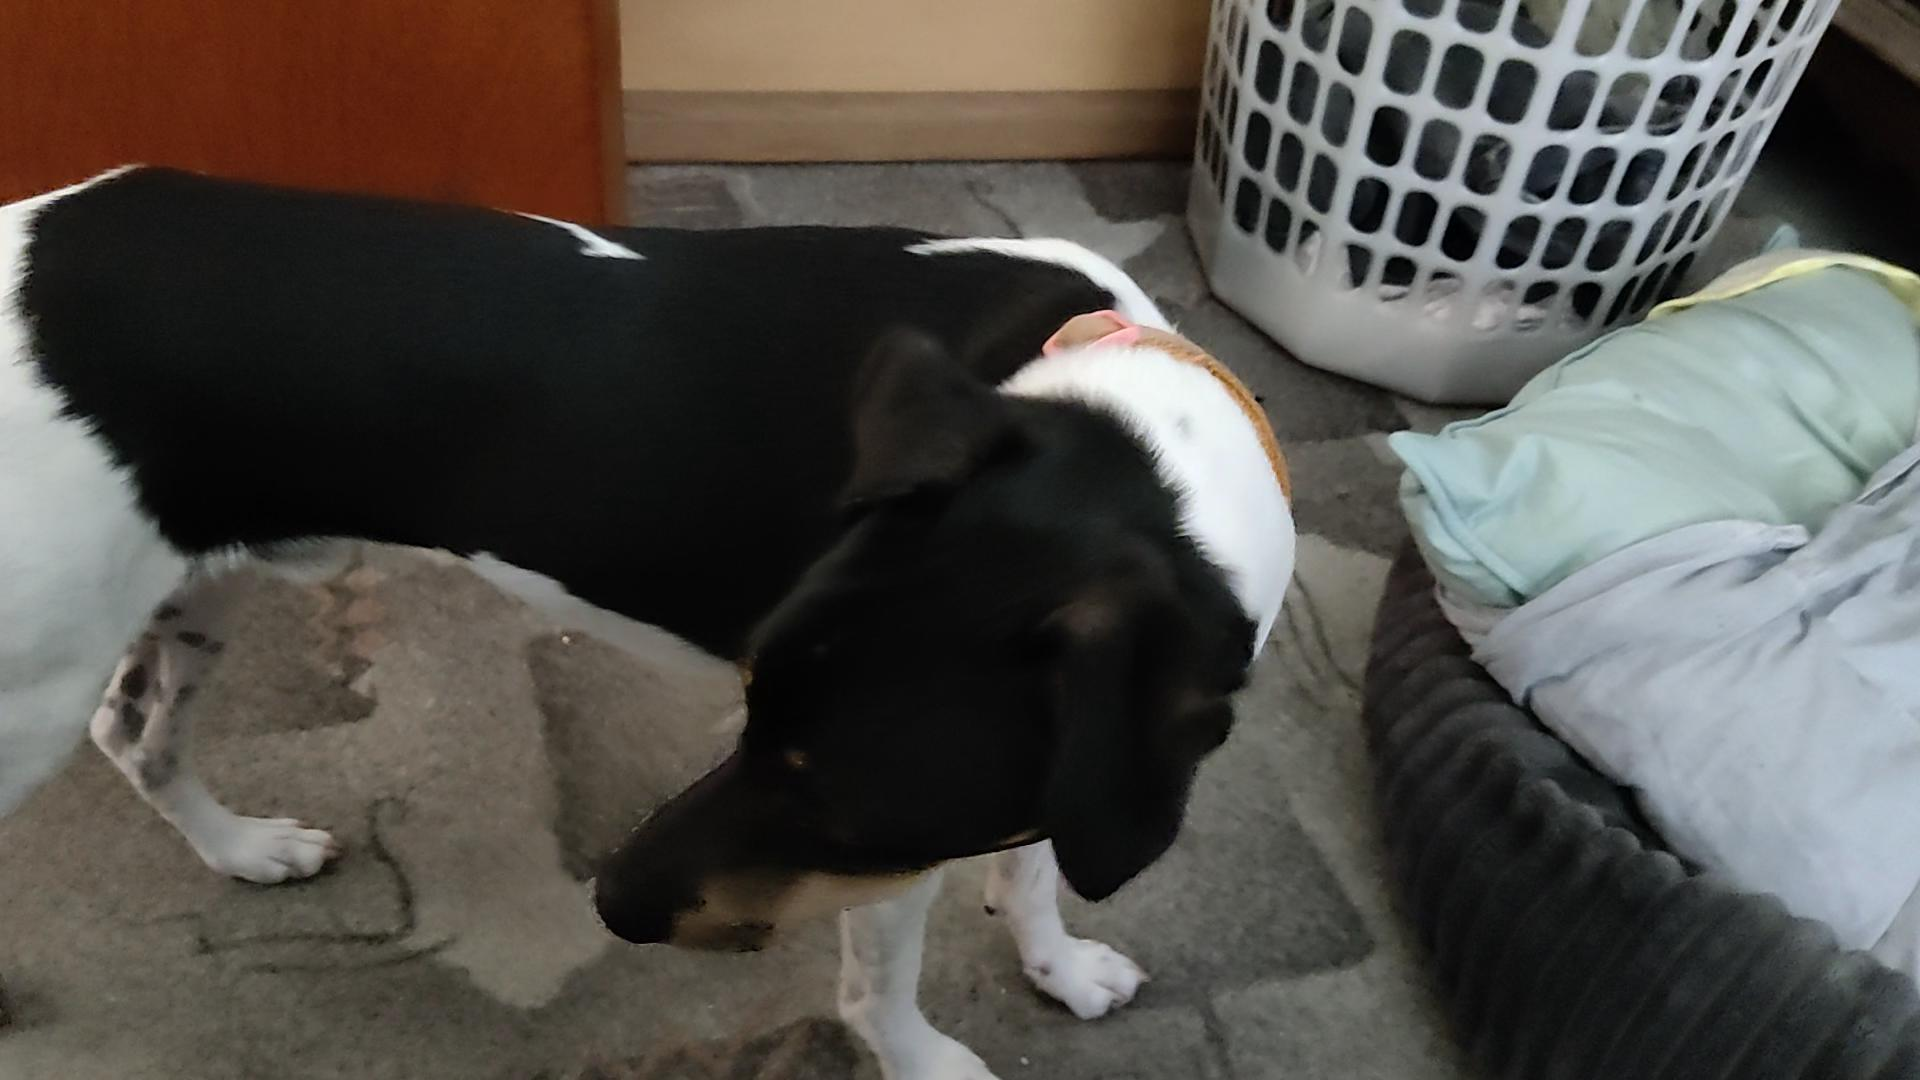Dog: (0, 145, 1307, 1079)
